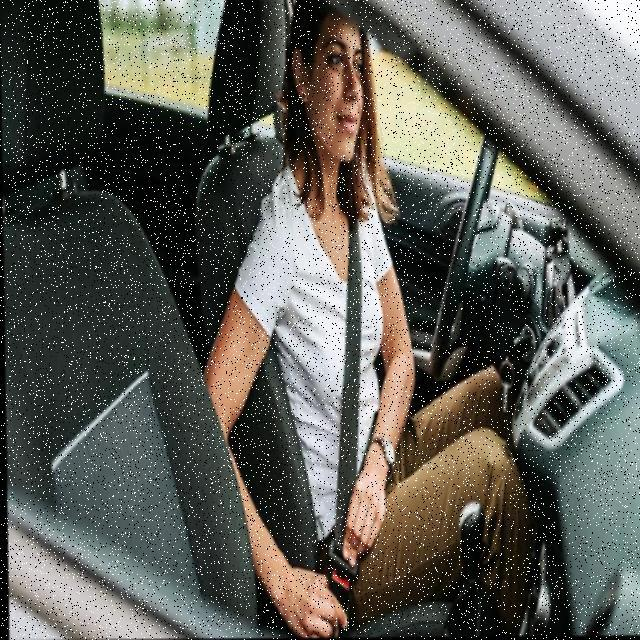seatbelt: (270, 137, 404, 578)
